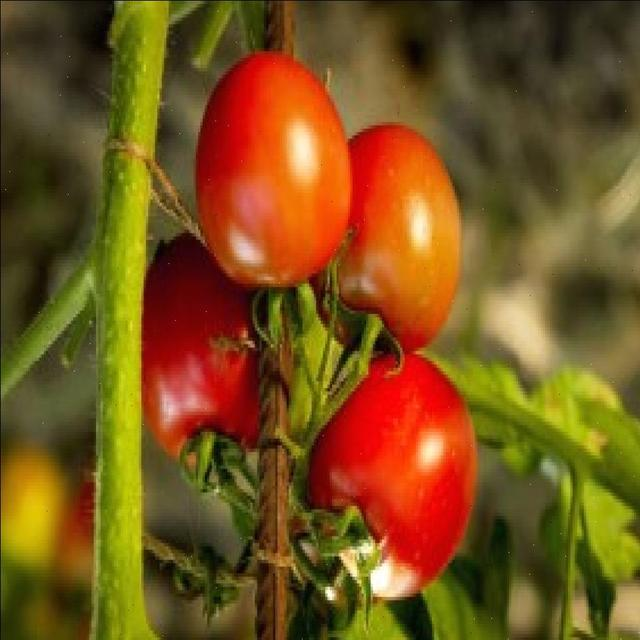Healthy Fruit: (89, 122, 272, 319)
